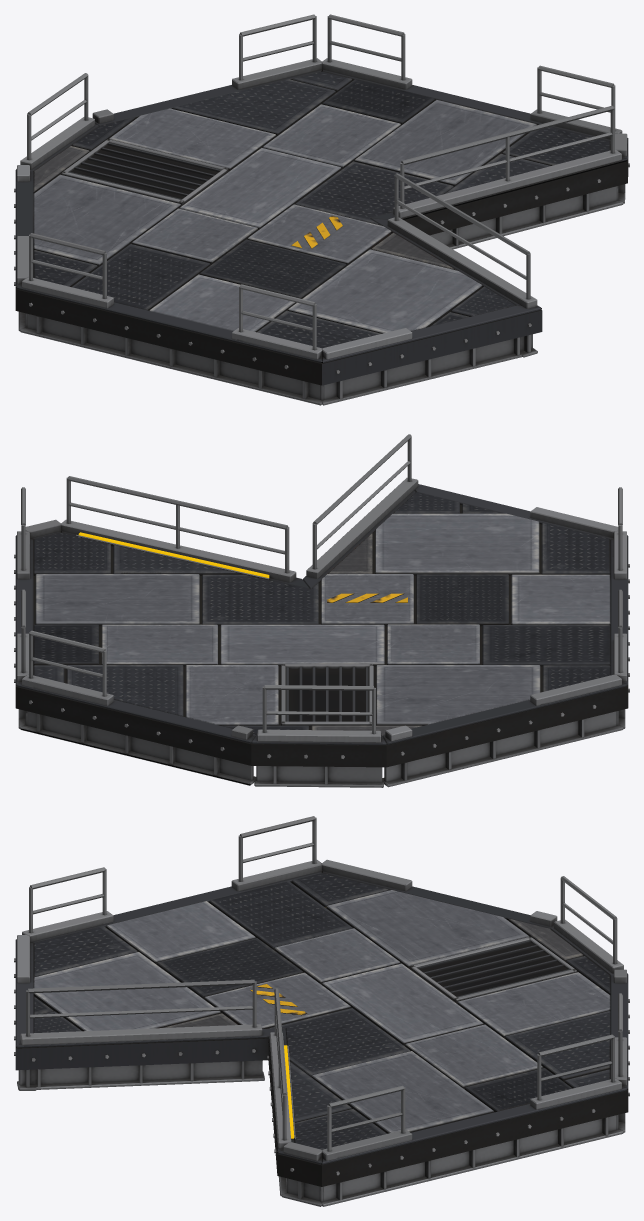
File: nodexeus-set-deck-m10.glb
3 views of the same model, one above another, from view 1: azimuth 30°, elevation 25°; view 2: azimuth 150°, elevation 25°; view 3: azimuth 270°, elevation 25° (orthographic).
Visible parts, largest first — view 1: set-deck-m10; view 2: set-deck-m10; view 3: set-deck-m10.
Boxes of the visible parts, <box> form: set-deck-m10: <box>14,14,629,405</box>; set-deck-m10: <box>14,434,629,787</box>; set-deck-m10: <box>14,816,629,1206</box>.
Bounding box in the file's own units: 11.88 × 1.84 × 10.35.
Materials: 1 (1 with a texture image).
